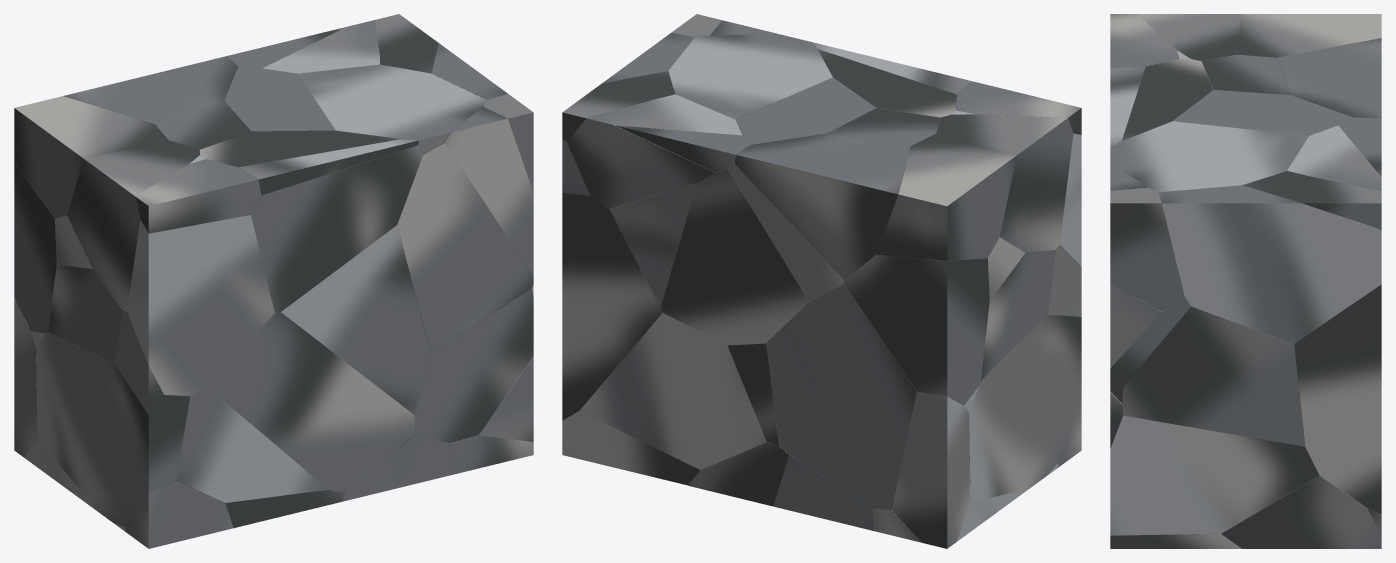
File: Bloc_Degrossi.glb
3 views of the same model, side by side, from view 1: azimuth 30°, elevation 25°; view 2: azimuth 150°, elevation 25°; view 3: azimuth 270°, elevation 25° (orthographic).
Parts seen in each view (by area): view 1: Cube_cell.004, Cube_cell.016, Cube_cell.019, Cube_cell.010_region1, Cube_cell.041, Cube_cell.047, Cube_cell.028, Cube_cell.017, Cube_cell.036, Cube_cell.007_region1, Cube_cell.048, Cube_cell.046 (+21 smaller); view 2: Cube_cell.022_region2, Cube_cell.015, Cube_cell.044, Cube_cell.008, Cube_cell.010_region1, Cube_cell.027_region2, Cube_cell.011, Cube_cell.048, Cube_cell.029, Cube_cell.036, Cube_cell.017, Cube_cell.033_region2 (+21 smaller); view 3: Cube_cell.039, Cube_cell.014, Cube_cell.012, Cube_cell.011, Cube_cell.017, Cube_cell.025, Cube_cell.049, Cube_cell.008, Cube_cell.048, Cube_cell.037, Cube_cell.019, Cube_cell.043 (+10 smaller).
Boxes of the visible parts, bbox=[...] form: Cube_cell.004: bbox=[206, 312, 415, 491]; Cube_cell.016: bbox=[127, 155, 274, 395]; Cube_cell.019: bbox=[199, 130, 422, 313]; Cube_cell.010_region1: bbox=[31, 331, 190, 526]; Cube_cell.041: bbox=[397, 143, 533, 352]; Cube_cell.047: bbox=[281, 225, 430, 414]; Cube_cell.028: bbox=[414, 284, 533, 442]; Cube_cell.017: bbox=[298, 64, 486, 154]; Cube_cell.036: bbox=[67, 140, 199, 311]; Cube_cell.007_region1: bbox=[176, 386, 328, 502]; Cube_cell.048: bbox=[14, 96, 168, 218]; Cube_cell.046: bbox=[444, 106, 533, 275]; Cube_cell.022_region2: bbox=[766, 283, 916, 510]; Cube_cell.015: bbox=[580, 313, 766, 469]; Cube_cell.044: bbox=[660, 169, 808, 345]; Cube_cell.008: bbox=[735, 133, 909, 280]; Cube_cell.010_region1: bbox=[964, 314, 1081, 502]; Cube_cell.027_region2: bbox=[844, 254, 989, 405]; Cube_cell.011: bbox=[562, 192, 662, 420]; Cube_cell.048: bbox=[876, 133, 1016, 260]; Cube_cell.029: bbox=[567, 94, 742, 208]; Cube_cell.036: bbox=[936, 114, 1073, 252]; Cube_cell.017: bbox=[668, 34, 832, 119]; Cube_cell.033_region2: bbox=[892, 391, 970, 548]; Cube_cell.039: bbox=[1159, 185, 1381, 343]; Cube_cell.014: bbox=[1110, 415, 1319, 535]; Cube_cell.012: bbox=[1122, 306, 1305, 446]; Cube_cell.011: bbox=[1294, 284, 1381, 514]; Cube_cell.017: bbox=[1110, 121, 1308, 194]; Cube_cell.025: bbox=[1220, 473, 1381, 548]; Cube_cell.049: bbox=[1110, 187, 1184, 311]; Cube_cell.008: bbox=[1277, 38, 1381, 118]; Cube_cell.048: bbox=[1236, 14, 1381, 57]; Cube_cell.037: bbox=[1173, 89, 1353, 135]; Cube_cell.019: bbox=[1122, 59, 1213, 140]; Cube_cell.043: bbox=[1243, 171, 1381, 229].
Size of the model in its own units: 7.05 by 6 by 4.27.
1 material, 1 textured.
